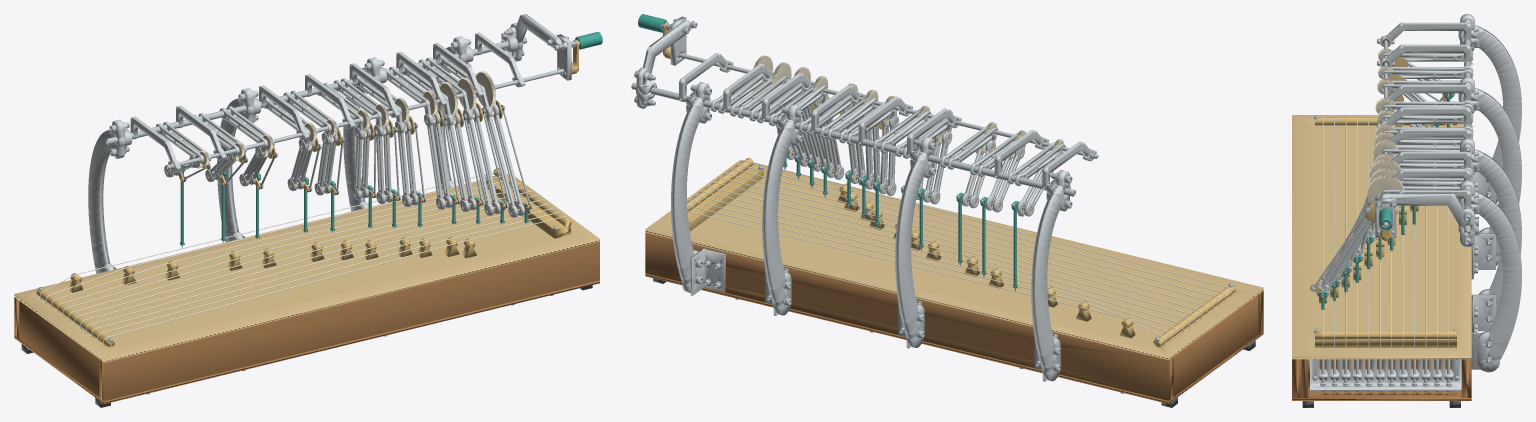
The model's file is lovophon_r5.glb.
The picture shows the model from 3 angles, left to right: view 1: azimuth 30°, elevation 25°; view 2: azimuth 150°, elevation 25°; view 3: azimuth 270°, elevation 25°; orthographic projection. The views are drawn at different scales.
Parts seen in each view (by area): view 1: static, input, V12_string, V11_string, V10_string, V09_string, V07_string, V08_string, V06_string, V04_string, V05_string, V03_string (+2 smaller); view 2: static, input, V03_string, V05_string, V04_string, V01_string, V07_string, V06_string, V02_string, V09_string, V08_string, V10_string (+2 smaller); view 3: static, input, V12_string, V10_string, V08_string, V03_string, V12_coupler, V05_string.
Boxes of the visible parts, x1,y1,x2,y2 form: static: (14, 14, 599, 407); input: (166, 32, 602, 169); V12_string: (103, 216, 567, 345); V11_string: (97, 212, 561, 340); V10_string: (91, 208, 556, 336); V09_string: (85, 203, 550, 332); V07_string: (74, 195, 538, 324); V08_string: (80, 199, 544, 328); V06_string: (68, 191, 533, 319); V04_string: (57, 183, 521, 311); V05_string: (62, 187, 527, 315); V03_string: (51, 179, 516, 307); static: (631, 16, 1263, 407); input: (638, 14, 1098, 159); V03_string: (687, 200, 1177, 335); V05_string: (699, 191, 1189, 327); V04_string: (693, 195, 1183, 331); V01_string: (687, 211, 1165, 344); V07_string: (711, 182, 1201, 318); V06_string: (705, 186, 1195, 322); V02_string: (687, 205, 1171, 340); V09_string: (723, 173, 1213, 309); V08_string: (717, 178, 1207, 313); V10_string: (729, 169, 1219, 304); static: (1292, 14, 1521, 407); input: (1367, 40, 1404, 241); V12_string: (1322, 117, 1323, 348); V10_string: (1345, 116, 1346, 348); V08_string: (1368, 116, 1369, 348); V03_string: (1425, 126, 1426, 348); V12_coupler: (1310, 207, 1370, 291); V05_string: (1402, 124, 1403, 348).
Bounding box in the file's own units: 0.7685 × 0.293 × 0.2817.
